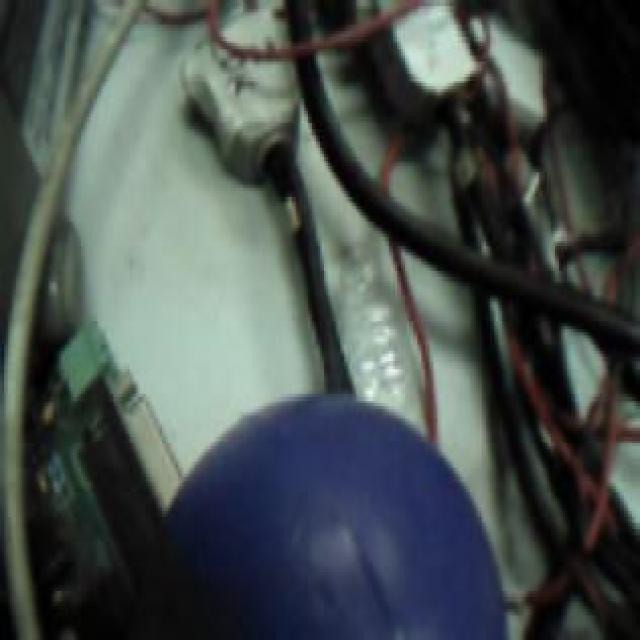BallPurple: (148, 394, 507, 640)
